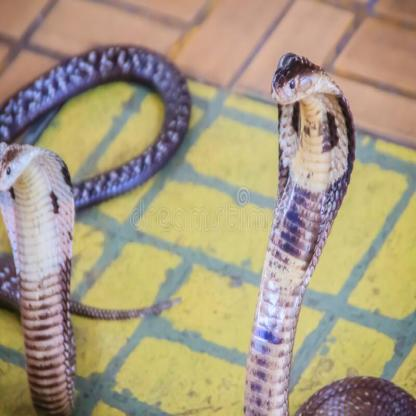Snake: (2, 42, 191, 416), (241, 49, 416, 416)
